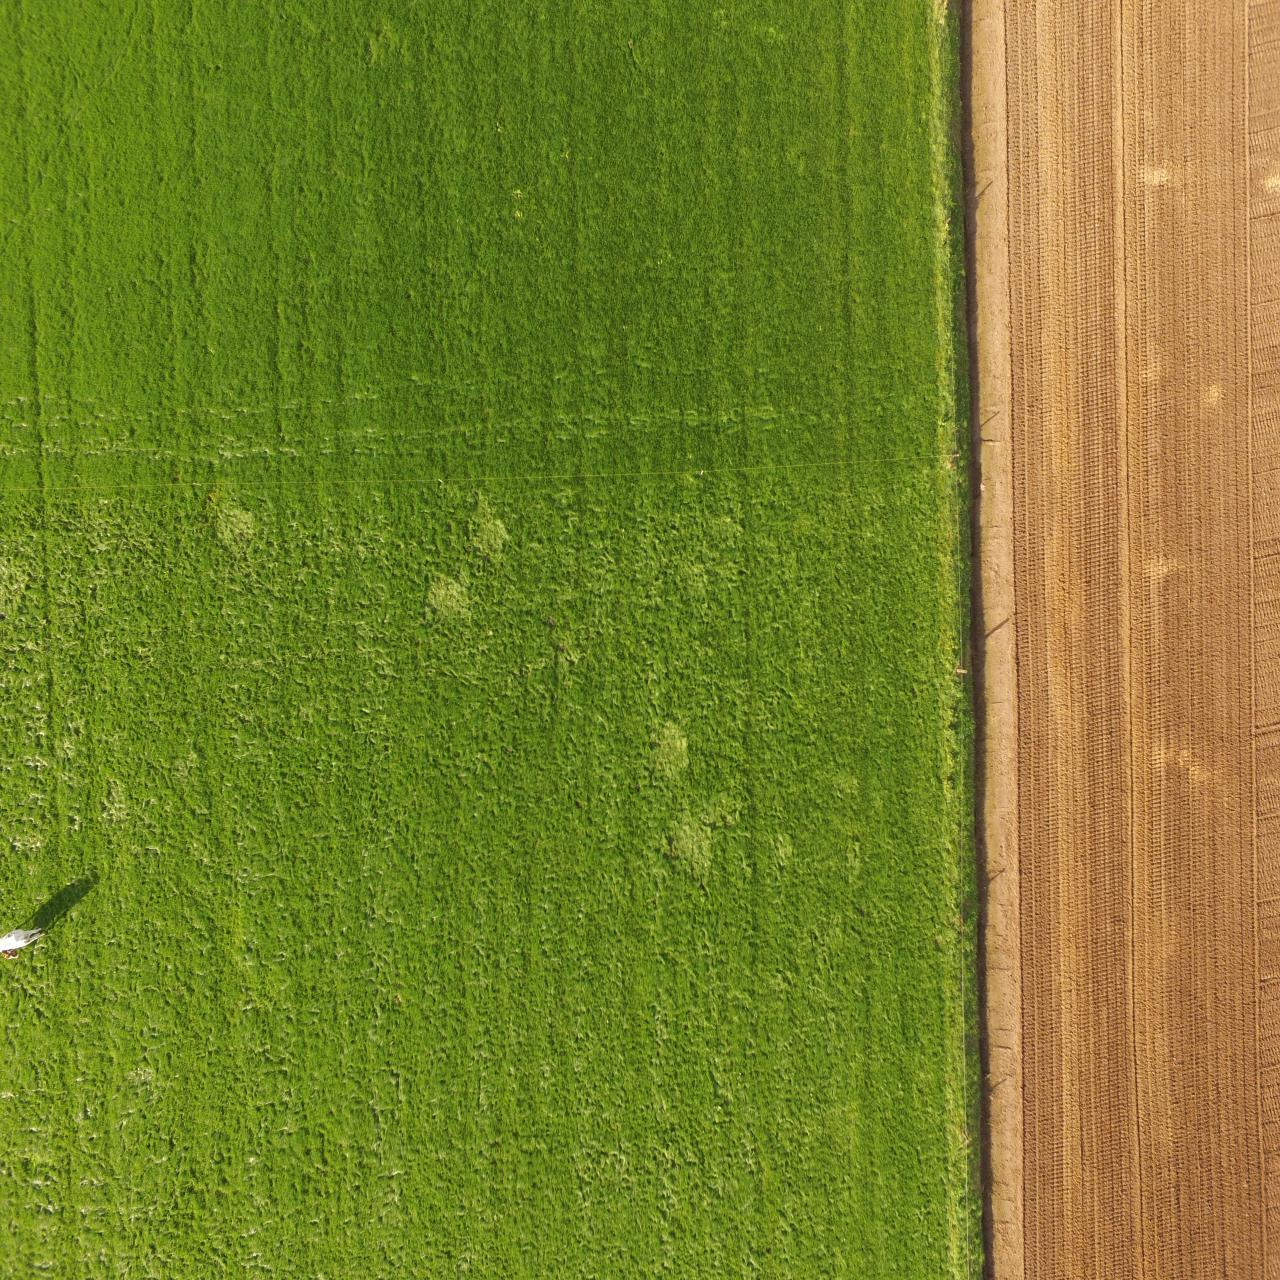cow: (1, 922, 46, 964)
